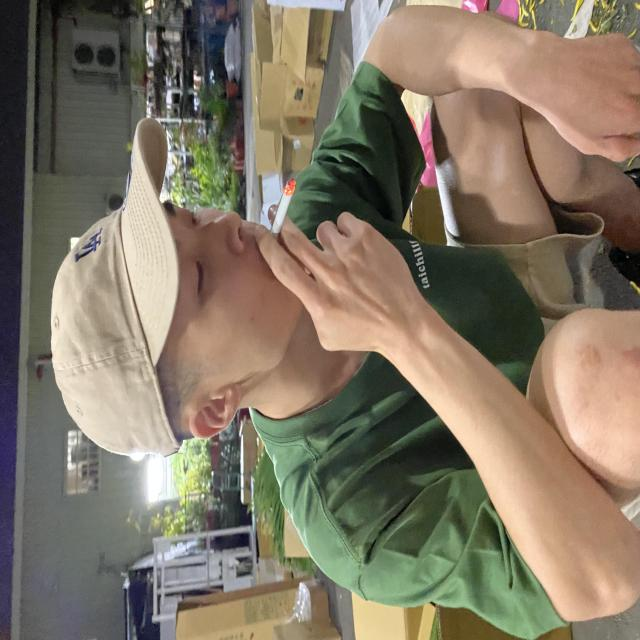cigarette: (263, 162, 303, 268)
